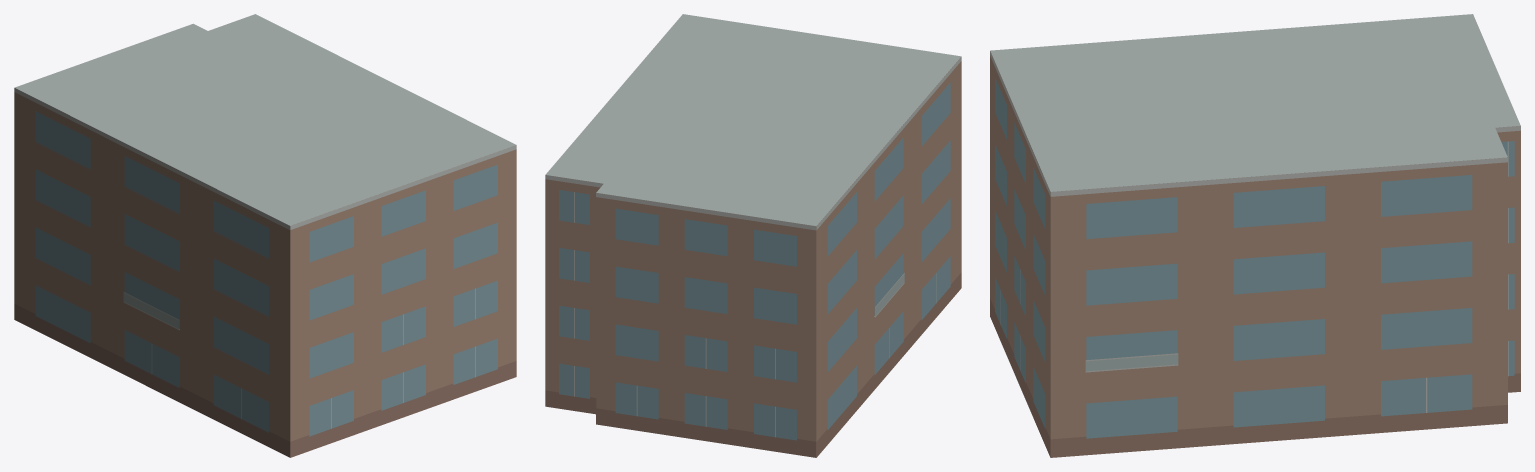
File: survey-upis-32832581.glb
The picture shows the model from 3 angles, left to right: view 1: azimuth 30°, elevation 25°; view 2: azimuth 150°, elevation 25°; view 3: azimuth 270°, elevation 25°; orthographic projection. The views are drawn at different scales.
Visible parts, largest first — view 1: survey-upis-32832581.tmp; view 2: survey-upis-32832581.tmp; view 3: survey-upis-32832581.tmp.
Part boxes in pixels (<box>): survey-upis-32832581.tmp: <box>14,14,516,457</box>; survey-upis-32832581.tmp: <box>545,14,961,457</box>; survey-upis-32832581.tmp: <box>990,14,1520,457</box>.
Bounding box in the file's own units: 18.95 × 13.2 × 23.88.
